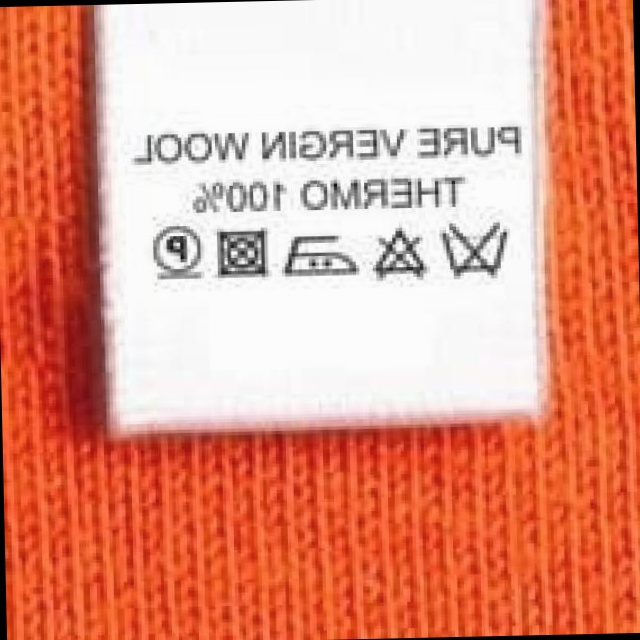DN_bleach: (370, 224, 426, 283)
DN_tumble_dry: (211, 224, 268, 282)
DN_wash: (437, 219, 514, 283)
dry_clean_any_solvent_except_trichloroethylene: (149, 220, 205, 283)
iron_medium: (282, 228, 360, 284)
